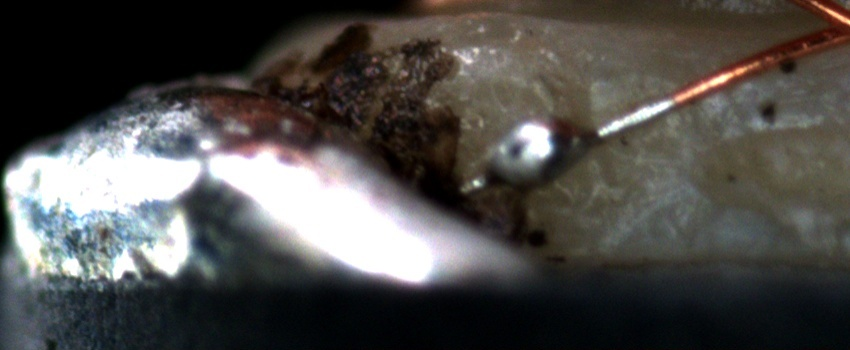TB: (483, 105, 593, 189)
TS: (470, 99, 674, 189)
TTCW: (449, 72, 725, 205)
